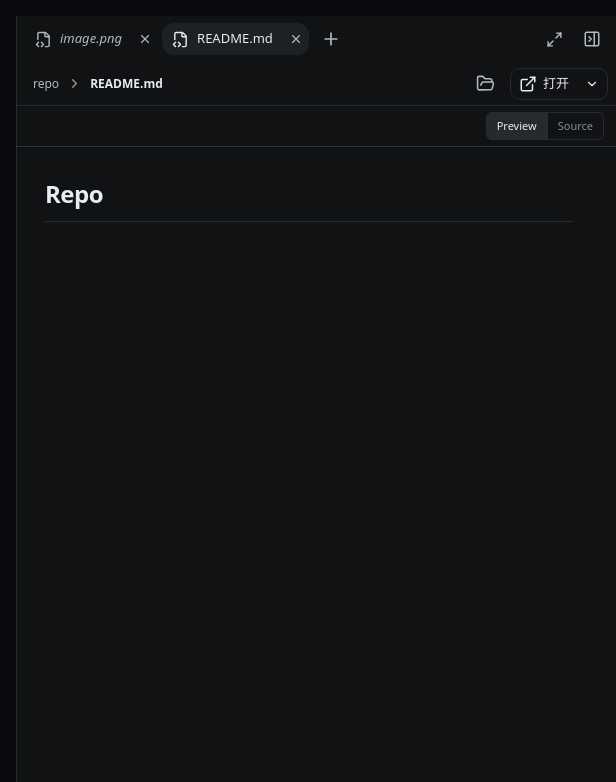
InspectorPanel › renders media previews without redundant file metadata
Click the button "Source": (576, 126) [548,112,604,140]
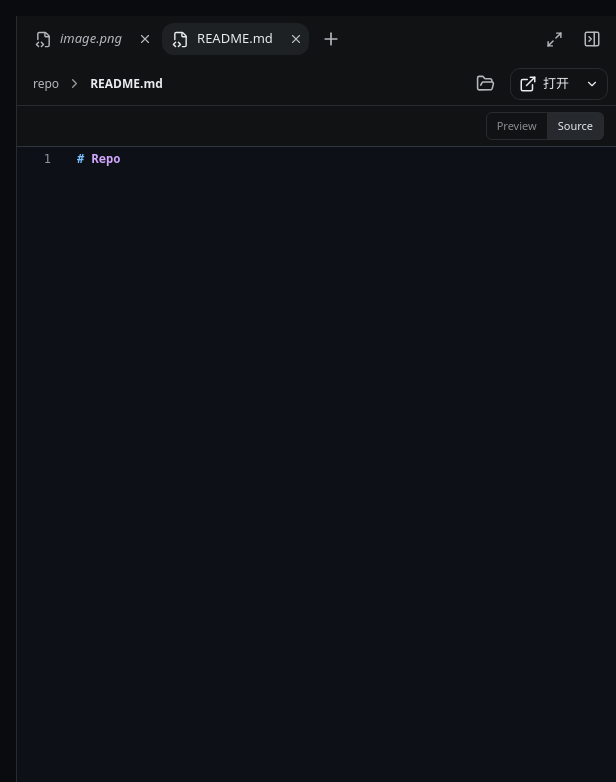
Expected: the element named "File preview content" shows "# Repo"
